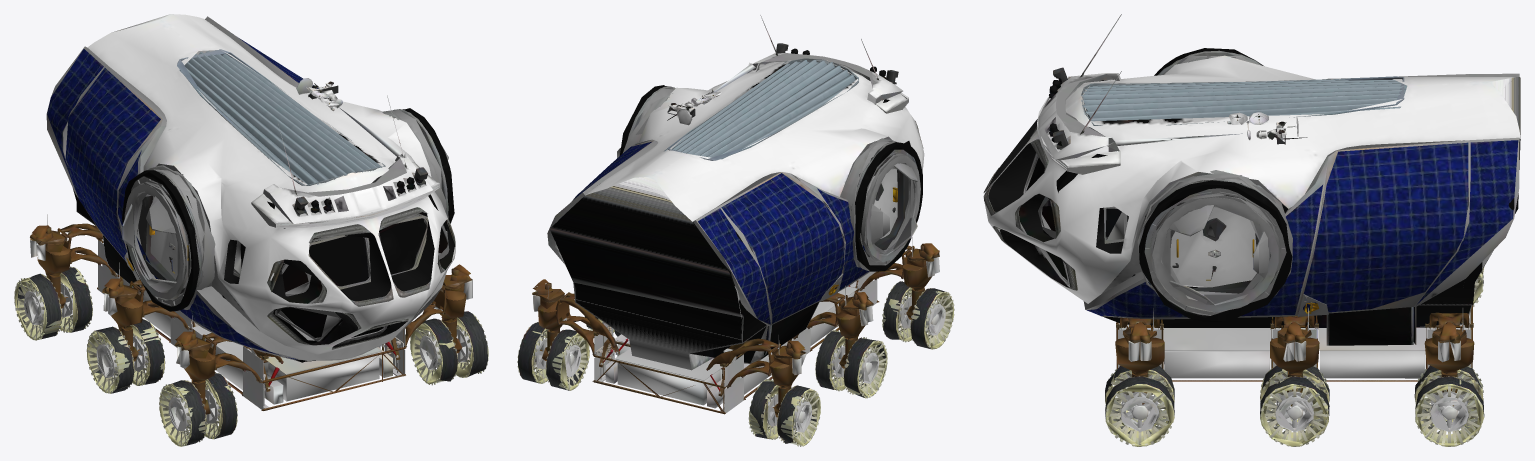
The model's file is nasa-sev-rover.glb.
3 views of the same model, side by side, from view 1: azimuth 30°, elevation 25°; view 2: azimuth 150°, elevation 25°; view 3: azimuth 270°, elevation 25° (orthographic). The views are drawn at different scales.
Visible parts, largest first — view 1: MMSEV; view 2: MMSEV; view 3: MMSEV.
Part boxes in pixels (x1,y1,x2,y2): MMSEV: (14,14,488,446); MMSEV: (517,15,954,446); MMSEV: (983,14,1520,446).
Size of the model in its own units: 4.04 by 3.97 by 5.9.
Materials: 1 (1 with a texture image).
